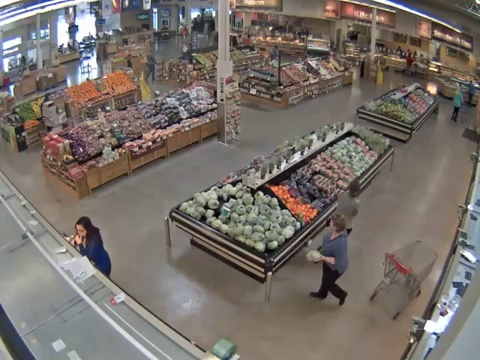face: (75, 222, 87, 237)
